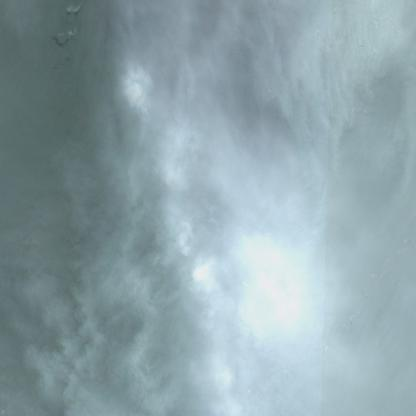fire: (122, 61, 264, 416)
